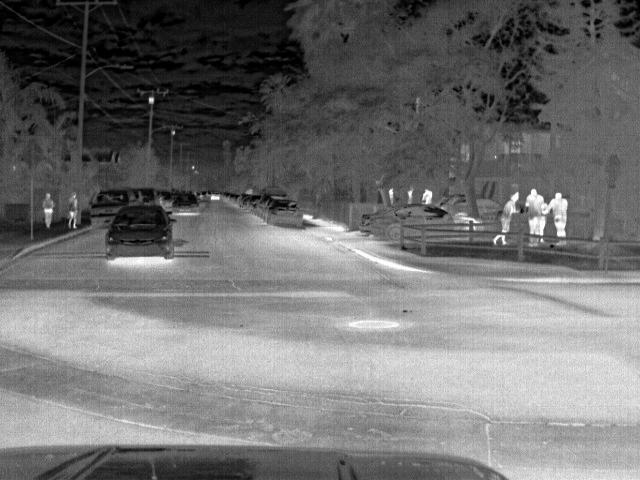car: (105, 206, 177, 261), (360, 203, 403, 240), (90, 191, 134, 226), (266, 199, 304, 229), (402, 203, 455, 222), (168, 193, 201, 219), (437, 192, 466, 213), (256, 191, 277, 216), (137, 188, 163, 207), (245, 196, 261, 211)
person: (542, 190, 570, 237), (498, 190, 524, 232), (524, 188, 544, 230), (65, 192, 79, 232), (41, 192, 55, 228), (419, 186, 433, 205)
